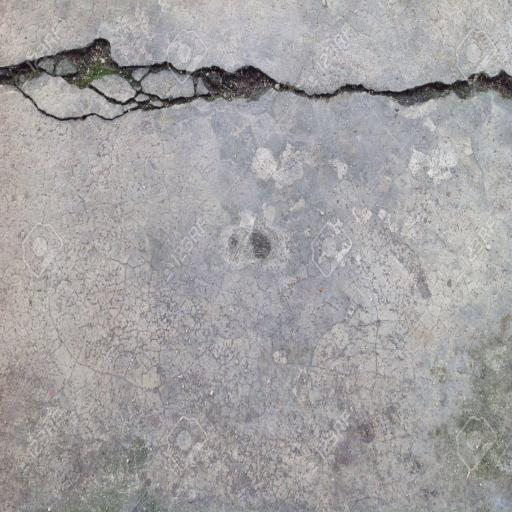spalling: (6, 32, 510, 130)
